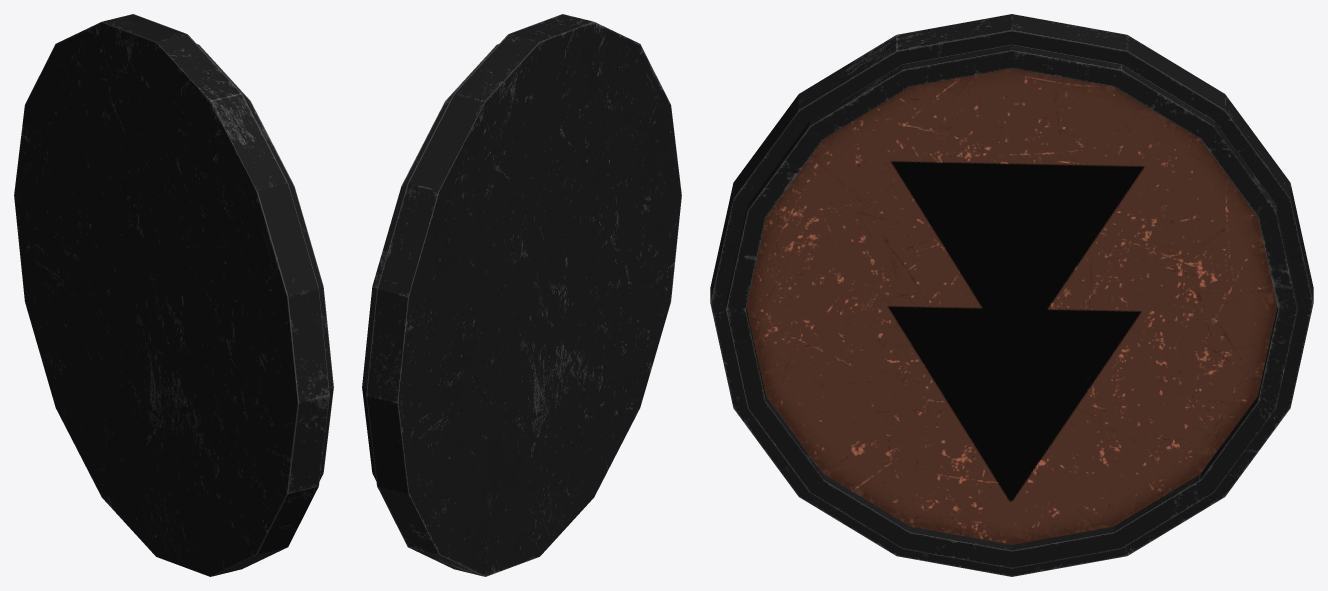
The model's file is RewindSymbolCopper.gltf.
3 renders of one model, left to right at view 1: azimuth 30°, elevation 25°; view 2: azimuth 150°, elevation 25°; view 3: azimuth 270°, elevation 25°, orthographic. The views are drawn at different scales.
Visible parts, largest first — view 1: Cylinder.002; view 2: Cylinder.002; view 3: Cylinder.002.
Boxes of the visible parts, box(x1,y1,x2,y2) form: Cylinder.002: box(14, 14, 333, 576); Cylinder.002: box(362, 14, 681, 576); Cylinder.002: box(710, 14, 1313, 576).
Size of the model in its own units: 0.1755 by 2 by 2.
1 material, 1 textured.
